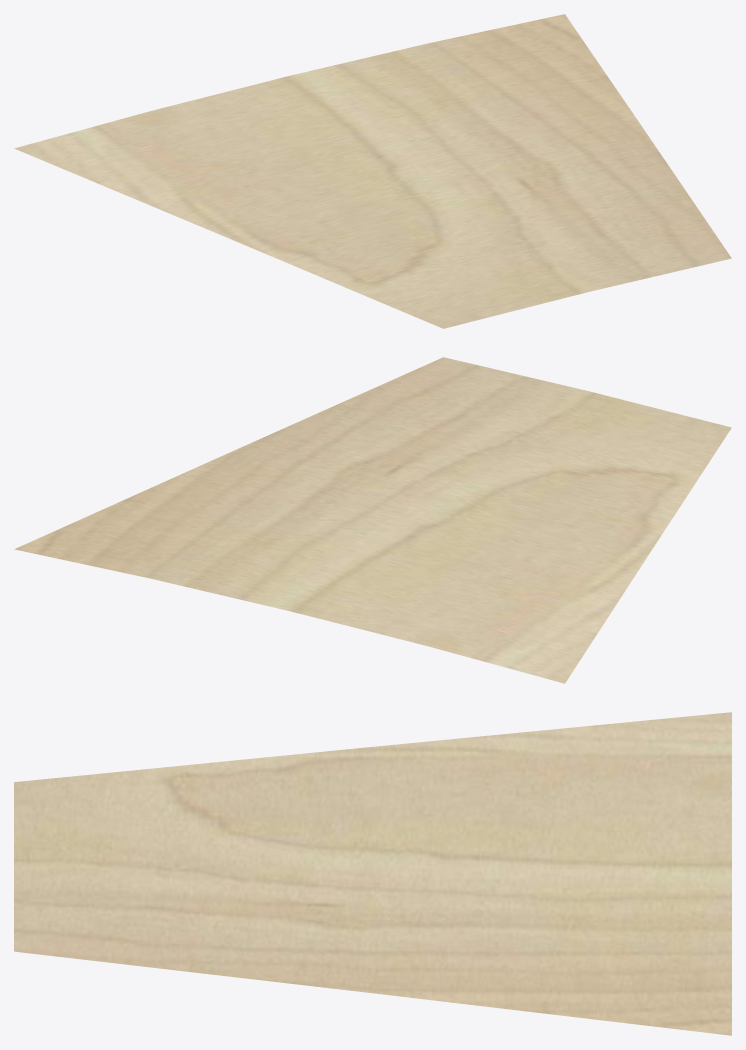
Rendered from mianban.fbx.
The picture shows the model from 3 angles, top to bottom: view 1: azimuth 30°, elevation 25°; view 2: azimuth 150°, elevation 25°; view 3: azimuth 270°, elevation 25°; orthographic projection. The views are drawn at different scales.
Parts seen in each view (by area): view 1: 物件_412; view 2: 物件_412; view 3: 物件_412.
Part boxes in pixels (x1,y1,x2,y2): 物件_412: (14,14,731,328); 物件_412: (14,357,731,683); 物件_412: (14,712,731,1035).
Bounding box in the file's own units: 45.86 × 0.5853 × 43.
1 material, 1 textured.
